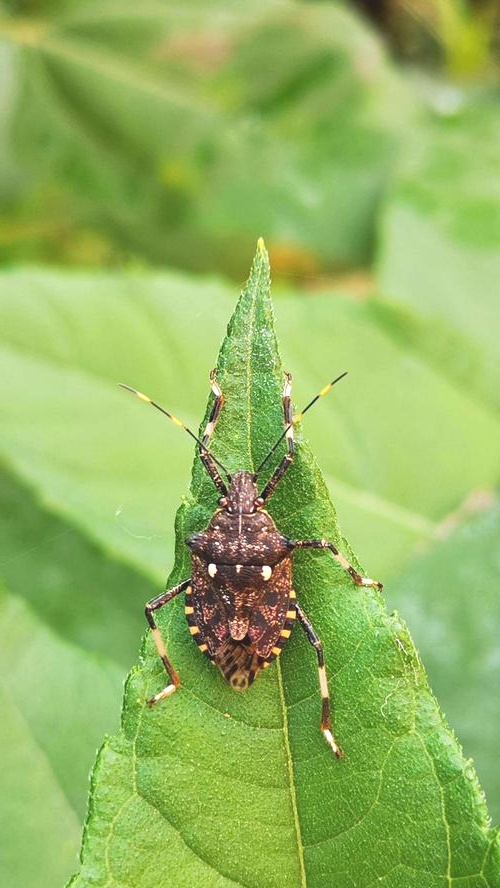Stink_Bug: (149, 411, 375, 675)
